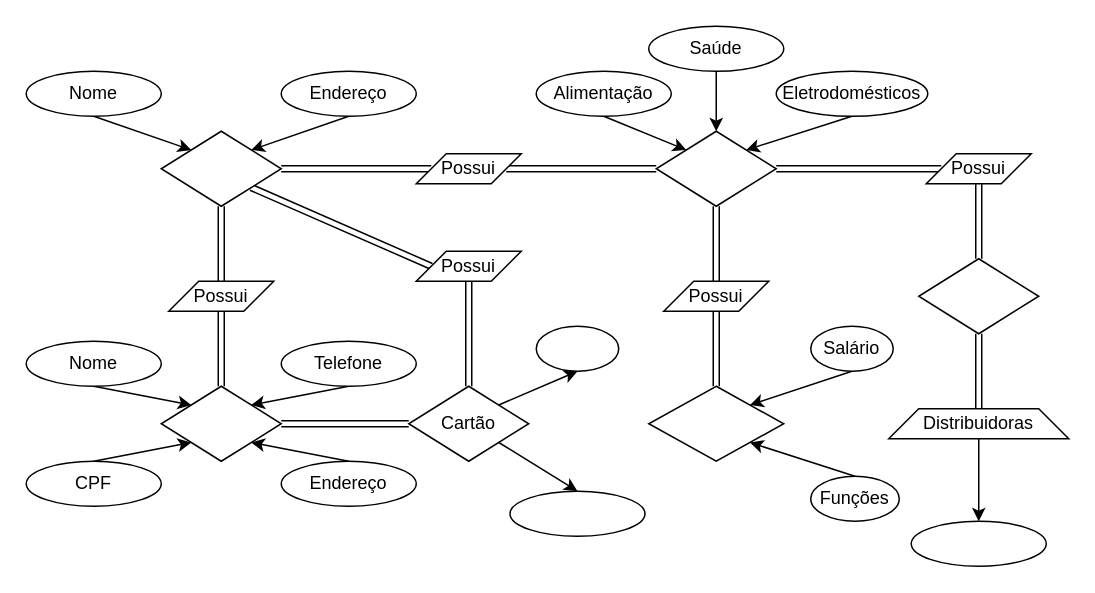
The diagram is 1095 pixels wide and 593 high, and some of its shapes have lost their labels. The centre of each missing label's shape, as x and y in pixels:
"Clientes" goes at [220,423].
"ContaMercado" goes at [576,513].
"Contratos" goes at [978,543].
"Funcionários" goes at [715,423].
"Mercadorias" goes at [978,295].
"Mercados" goes at [220,168].
"Saldo" goes at [577,348].
"Setores" goes at [715,168].
